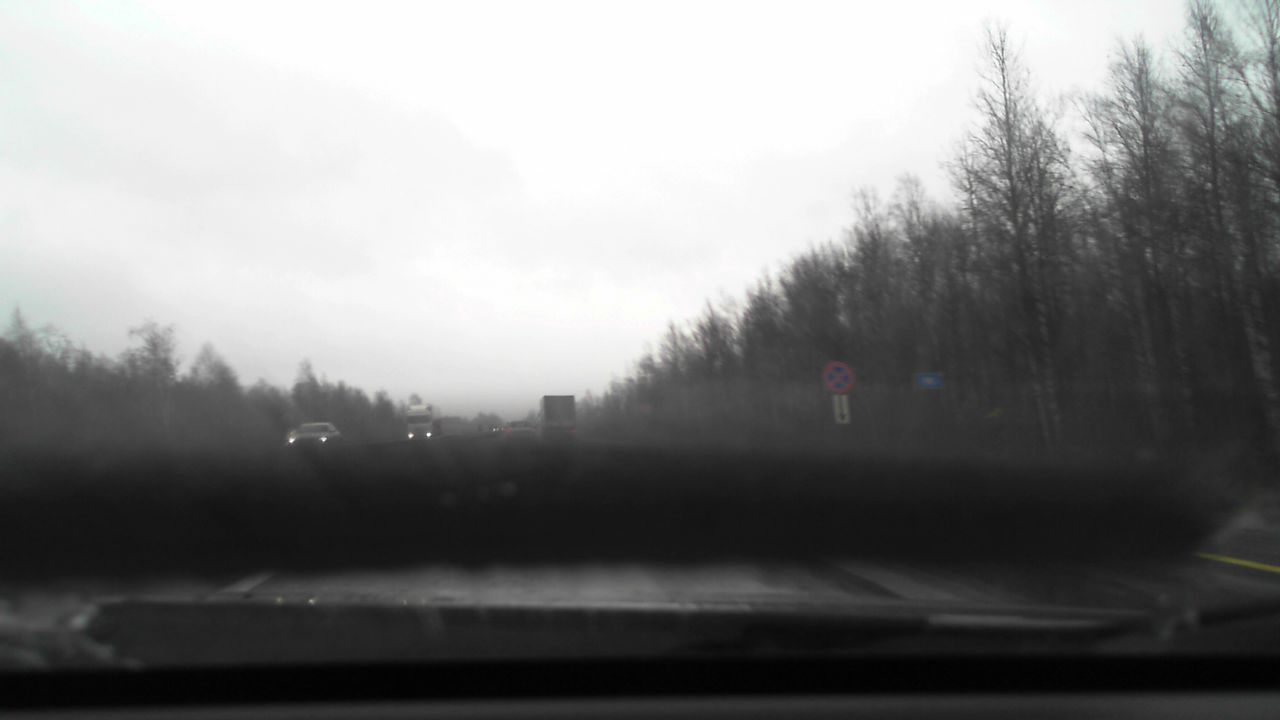No Parking: (822, 361, 851, 391)
